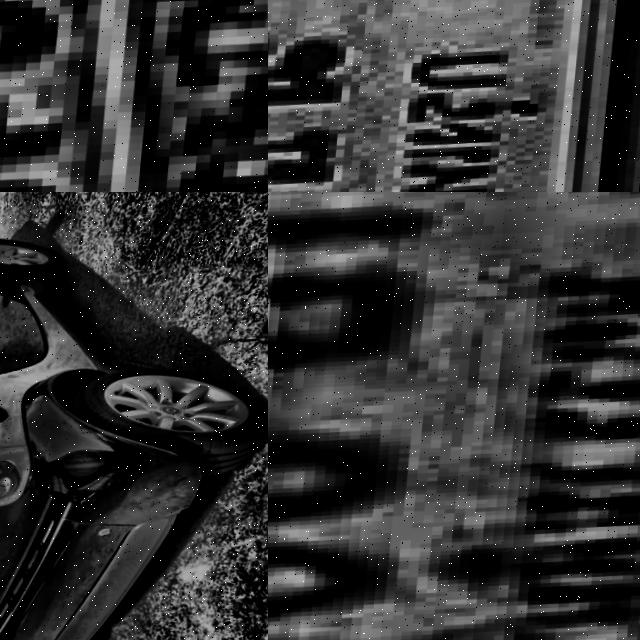license-plate: (268, 192, 640, 640), (268, 0, 608, 192), (0, 0, 268, 192)
